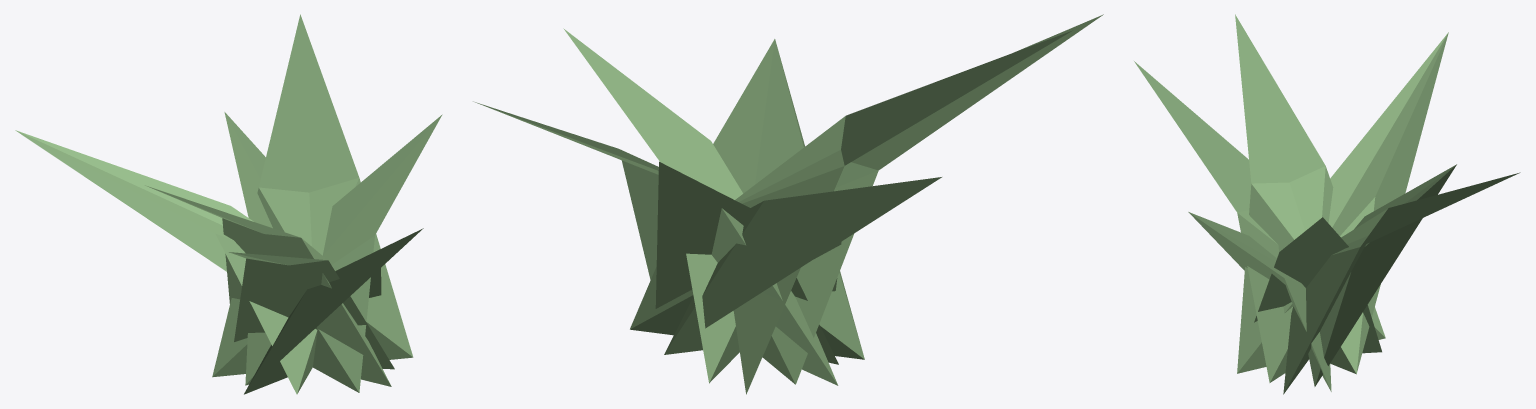
Rendered from env_grass_tuft_a_v001.glb.
3 views of the same model, side by side, from view 1: azimuth 30°, elevation 25°; view 2: azimuth 150°, elevation 25°; view 3: azimuth 270°, elevation 25° (orthographic). The views are drawn at different scales.
Visible parts, largest first — view 1: env_grass_tuft_a_LOD0_mesh; view 2: env_grass_tuft_a_LOD0_mesh; view 3: env_grass_tuft_a_LOD0_mesh.
Boxes of the visible parts, x1=… form: env_grass_tuft_a_LOD0_mesh: x1=15, y1=14, x2=442, y2=394; env_grass_tuft_a_LOD0_mesh: x1=473, y1=14, x2=1103, y2=394; env_grass_tuft_a_LOD0_mesh: x1=1134, y1=14, x2=1520, y2=394.
Bounding box in the file's own units: 0.5 × 0.35 × 0.5.
